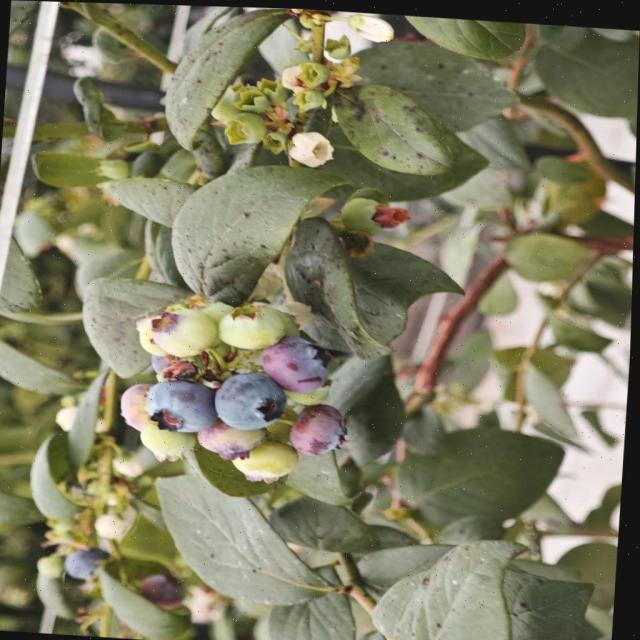RipeBlueBerry: (214, 369, 291, 432), (146, 374, 221, 435)
Semi-RipeBlueBerry: (260, 333, 334, 392), (290, 399, 352, 456)
UnripeBlueBerry: (150, 305, 221, 359), (218, 298, 290, 351)
